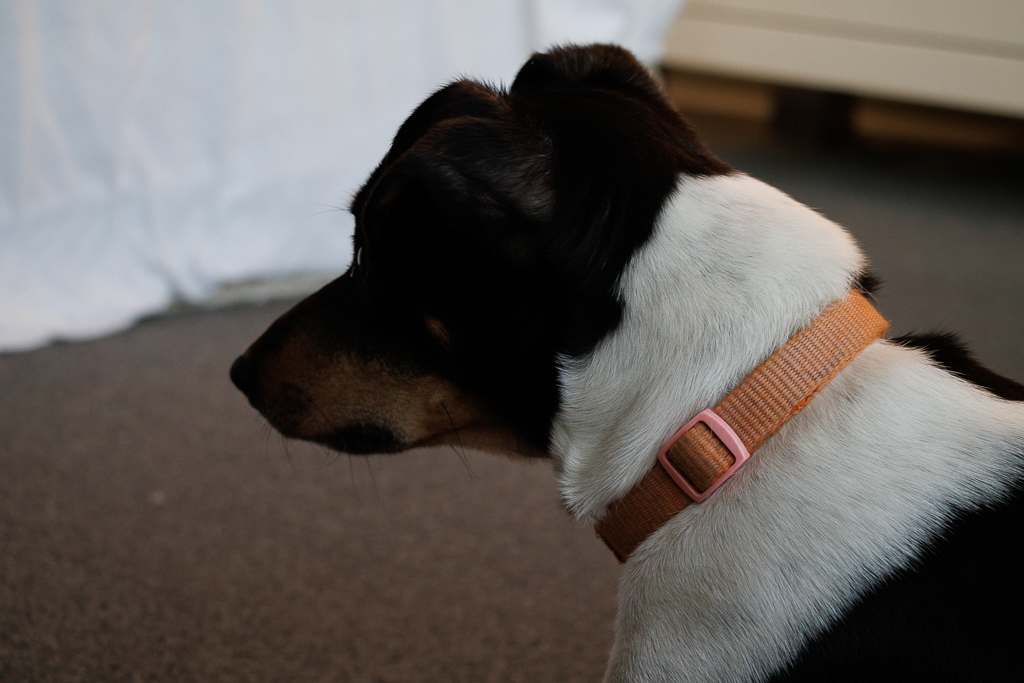Dog: (217, 34, 1024, 683)
